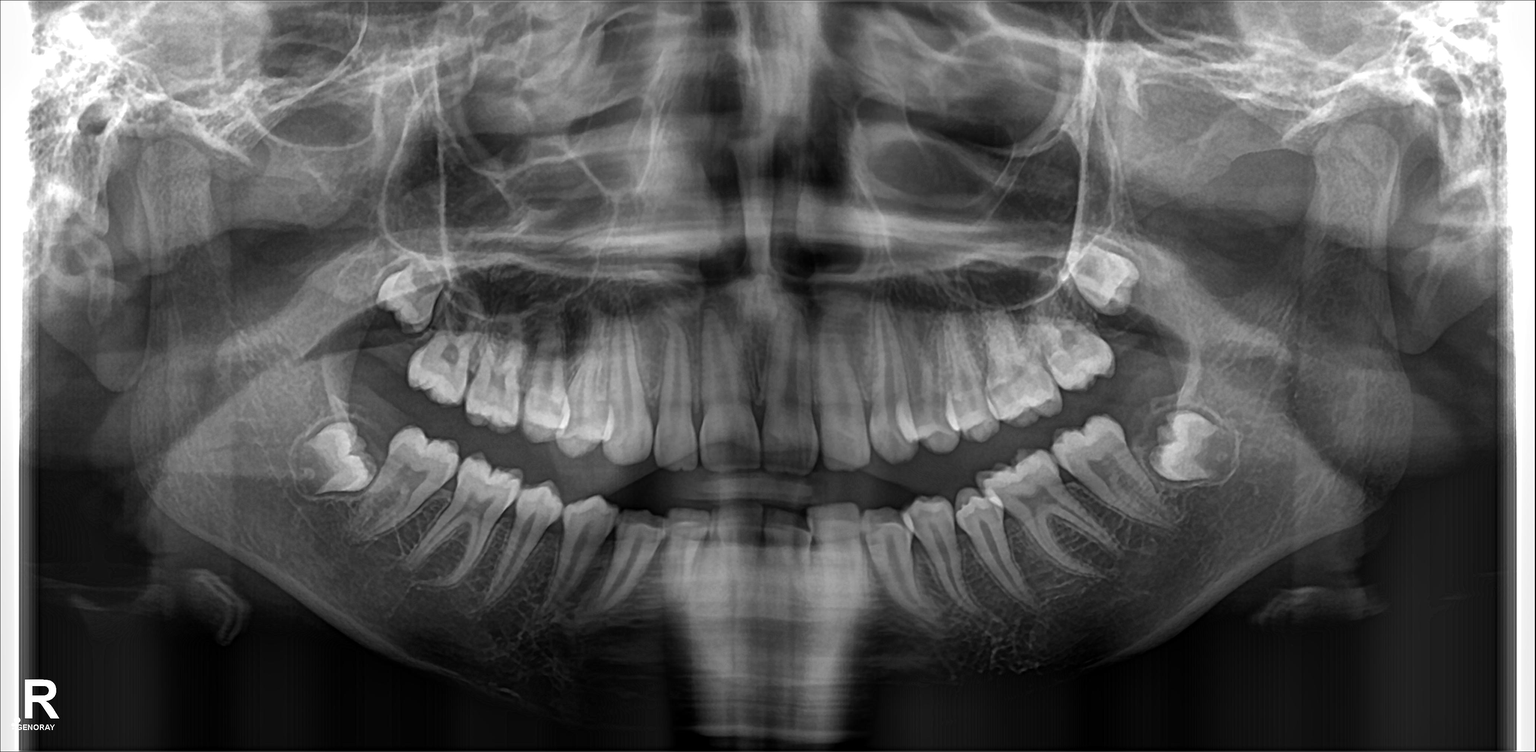Impacted Third Molar: (1149, 395, 1241, 481), (276, 428, 378, 503), (361, 261, 451, 325), (1076, 238, 1140, 314)
Missing Tooth: (367, 309, 416, 384)
